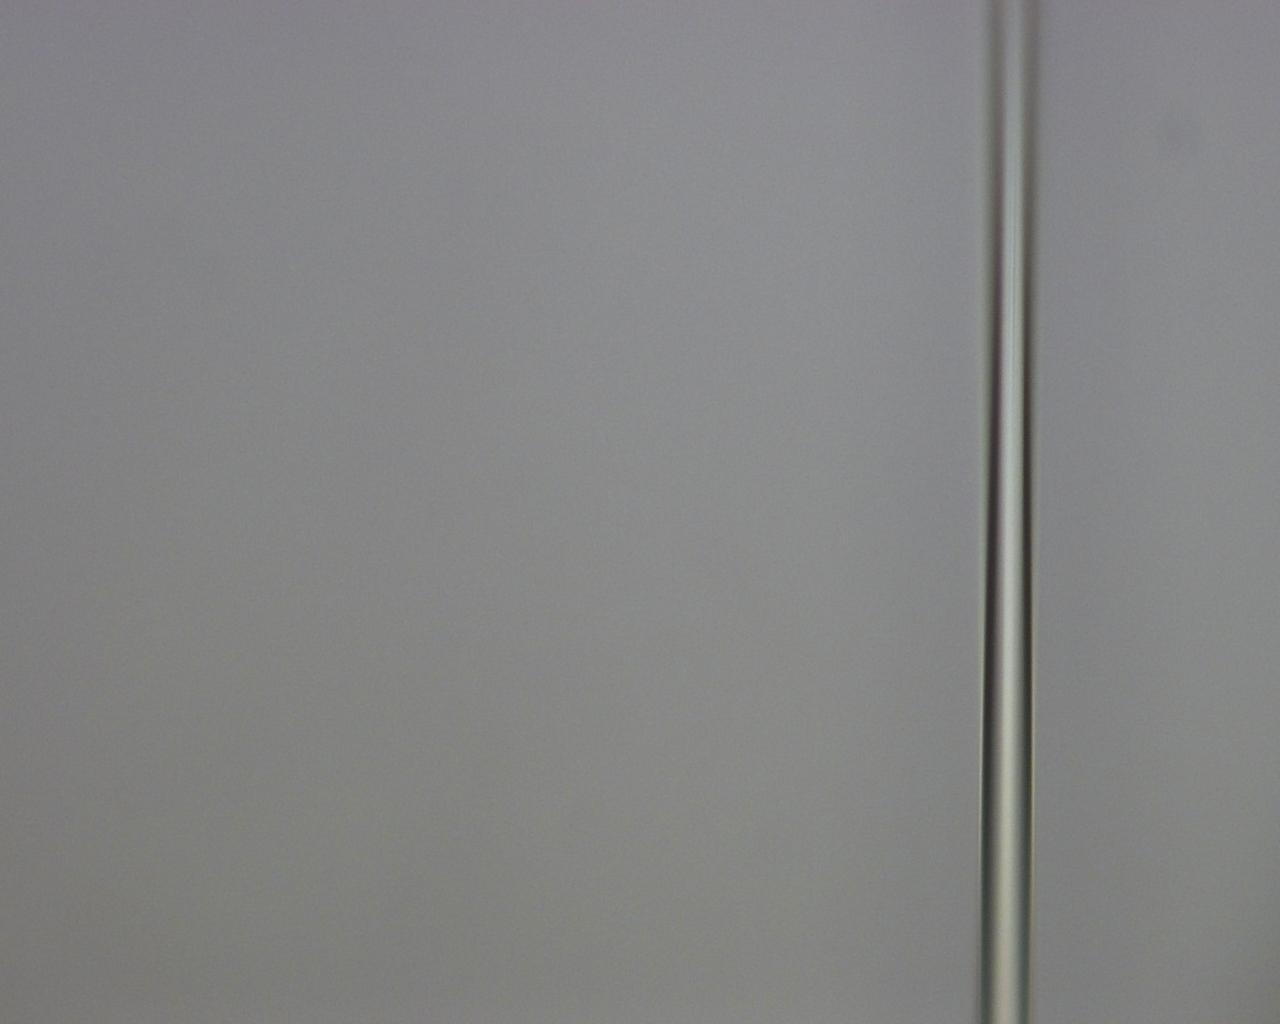fiber: (0, 653, 396, 1024), (518, 611, 1280, 799), (706, 48, 1280, 222), (127, 0, 267, 593)
